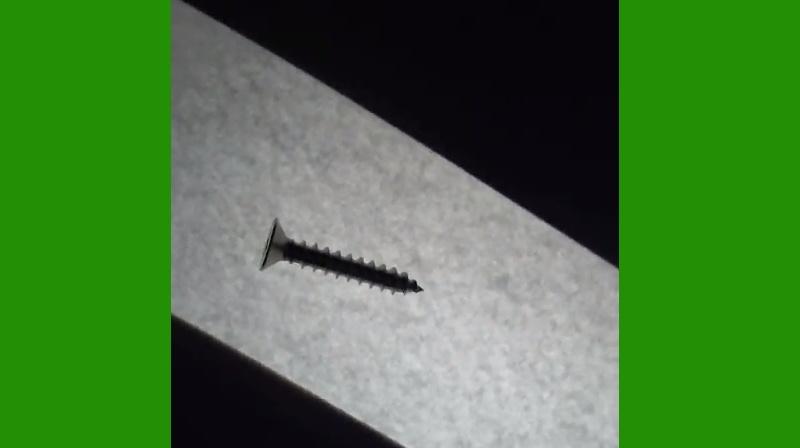S001: (251, 214, 428, 303)
